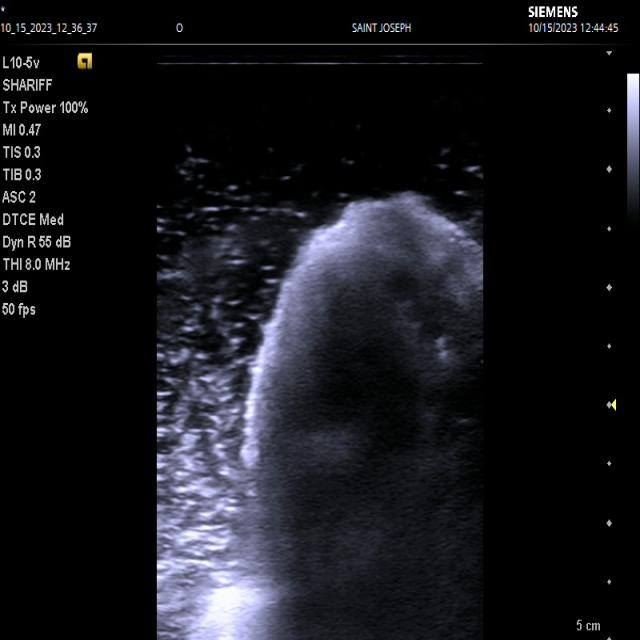tissue: (186, 192, 488, 640)
